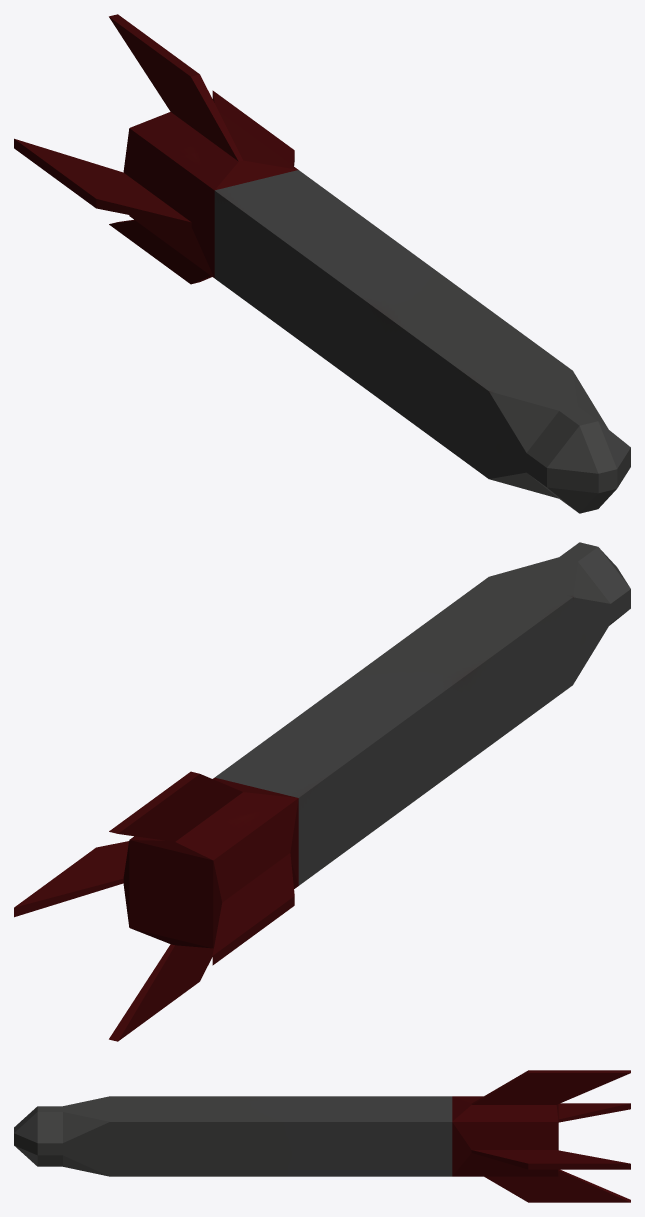
The model's file is Missile.obj.
The picture shows the model from 3 angles, top to bottom: view 1: azimuth 30°, elevation 25°; view 2: azimuth 150°, elevation 25°; view 3: azimuth 270°, elevation 25°; orthographic projection. The views are drawn at different scales.
Visible parts, largest first — view 1: MissileMesh_Cube; view 2: MissileMesh_Cube; view 3: MissileMesh_Cube.
Boxes of the visible parts, box(x1,y1,x2,y2) form: MissileMesh_Cube: box(14, 14, 630, 513); MissileMesh_Cube: box(14, 542, 630, 1041); MissileMesh_Cube: box(14, 1070, 630, 1202).
Bounding box in the file's own units: 1.64 × 1.64 × 7.1.
Materials: 1 (1 with a texture image).
